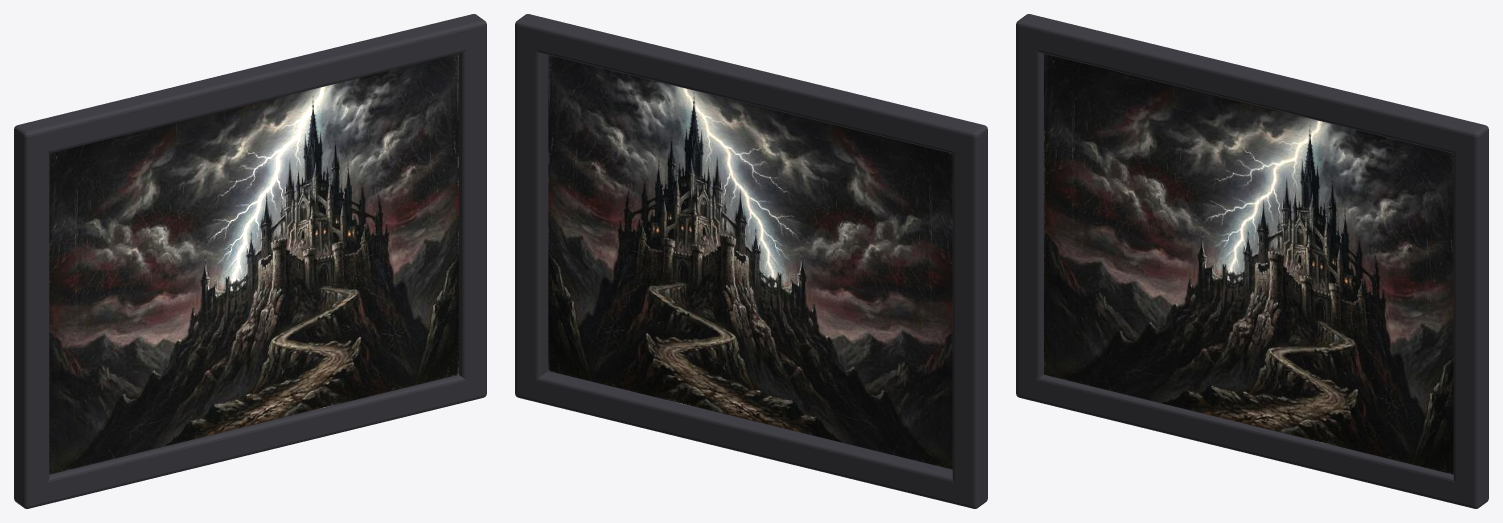
File: art_lightning_castle.glb
3 renders of one model, left to right at view 1: azimuth 30°, elevation 25°; view 2: azimuth 150°, elevation 25°; view 3: azimuth 330°, elevation 25°, orthographic.
Parts seen in each view (by area): view 1: GD_art_lightning_castle__m0, GD_art_lightning_castle__m1; view 2: GD_art_lightning_castle__m0, GD_art_lightning_castle__m1; view 3: GD_art_lightning_castle__m0, GD_art_lightning_castle__m1.
Boxes of the visible parts, <box> form: GD_art_lightning_castle__m0: <box>49,53,458,474</box>; GD_art_lightning_castle__m1: <box>14,14,486,508</box>; GD_art_lightning_castle__m0: <box>548,55,952,469</box>; GD_art_lightning_castle__m1: <box>515,14,987,508</box>; GD_art_lightning_castle__m0: <box>1044,53,1453,474</box>; GD_art_lightning_castle__m1: <box>1016,14,1488,508</box>.
Size of the model in its own units: 1.26 by 0.98 by 0.06.
Materials: 2 (1 with a texture image).
